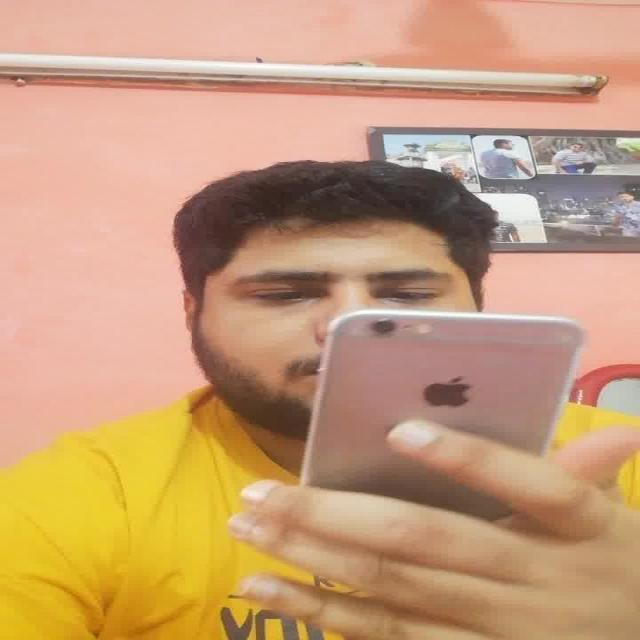Phone: (300, 307, 589, 488)
